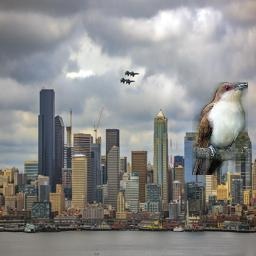Cuckoo: (192, 82, 248, 175)
